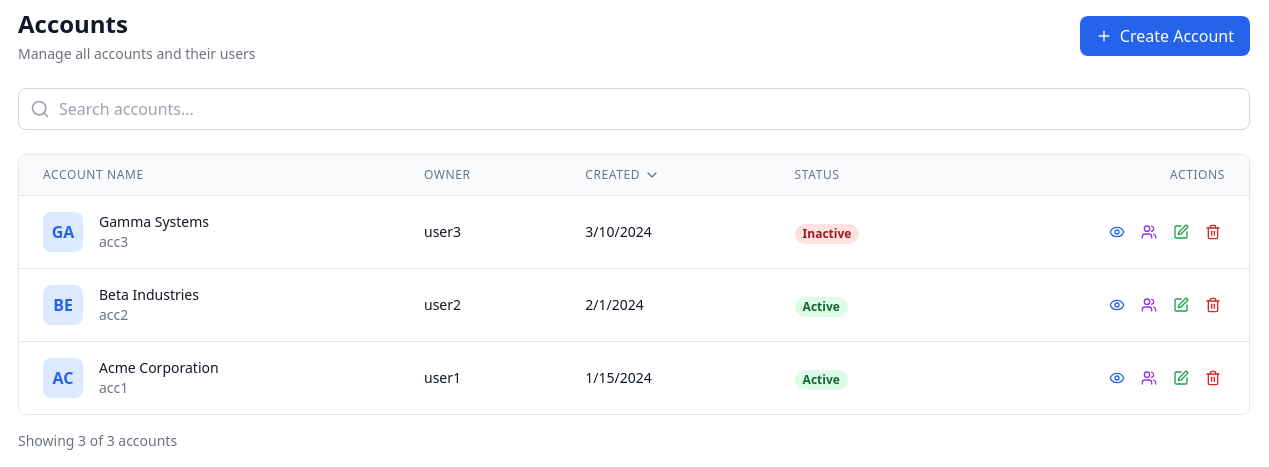
Test: AccountList › should filter accounts by search
The width and height of the screenshot is (1269, 467).
Check: the text "Acme Corporation" is shown, box [99,358,219,378]
Type in search box
Type "Beta" into the field with placeholder "Search accounts...". click: (634, 109)
box: [18,88,1250,130]
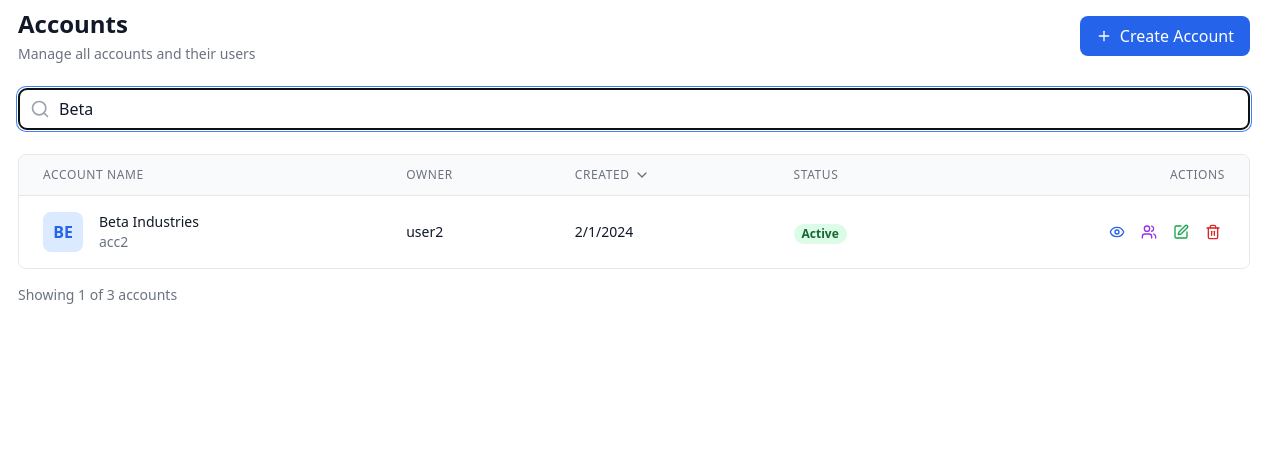
Check: the text "Beta Industries" is shown, box [99,212,199,232]
Check: the text "Acme Corporation" is gone
Check: the text "Gamma Systems" is gone
